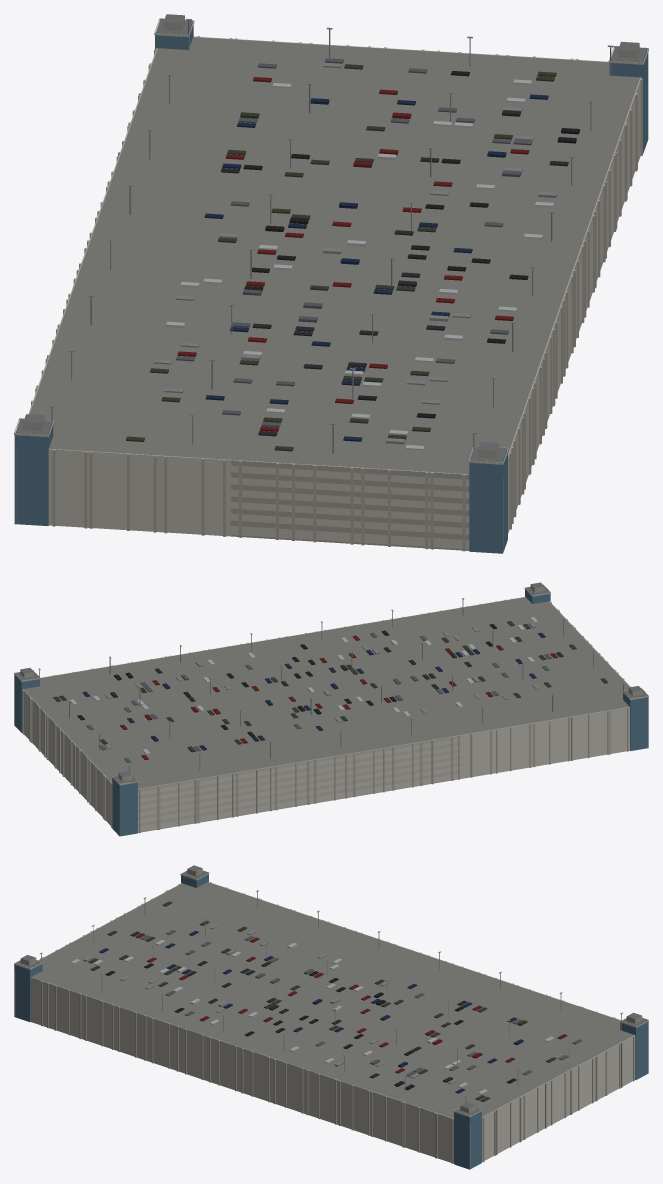
Rendered from atl-west-parking-deck.glb.
3 renders of one model, top to bottom at view 1: azimuth 30°, elevation 25°; view 2: azimuth 150°, elevation 25°; view 3: azimuth 270°, elevation 25°, orthographic. The views are drawn at different scales.
Visible parts, largest first — view 1: lod2_lm_stone, lod2_bld_wall, lod0_lm_stone, lod0_lm_metal, lod1_lm_stone, lod0_bld_glass, lod0_bld_roof; view 2: lod2_lm_stone, lod2_bld_wall, lod0_lm_stone, lod0_lm_metal, lod1_lm_stone, lod0_bld_glass, lod0_bld_roof; view 3: lod2_lm_stone, lod2_bld_wall, lod0_lm_metal, lod0_lm_stone, lod0_bld_glass, lod1_lm_stone, lod0_bld_roof.
Boxes of the visible parts, bbox=[...] form: lod2_lm_stone: bbox=[29, 37, 640, 474]; lod2_bld_wall: bbox=[48, 78, 641, 549]; lod0_lm_stone: bbox=[14, 16, 648, 552]; lod0_lm_metal: bbox=[49, 18, 613, 460]; lod1_lm_stone: bbox=[14, 18, 648, 550]; lod0_bld_glass: bbox=[14, 22, 648, 553]; lod0_bld_roof: bbox=[15, 14, 647, 461]; lod2_lm_stone: bbox=[23, 597, 639, 788]; lod2_bld_wall: bbox=[22, 689, 629, 831]; lod0_lm_stone: bbox=[14, 584, 648, 833]; lod0_lm_metal: bbox=[38, 586, 624, 772]; lod1_lm_stone: bbox=[14, 584, 648, 830]; lod0_bld_glass: bbox=[14, 589, 648, 836]; lod0_bld_roof: bbox=[15, 582, 647, 783]; lod2_lm_stone: bbox=[27, 878, 636, 1118]; lod2_bld_wall: bbox=[30, 977, 635, 1163]; lod0_lm_metal: bbox=[40, 870, 622, 1102]; lod0_lm_stone: bbox=[14, 868, 648, 1167]; lod0_bld_glass: bbox=[14, 873, 648, 1169]; lod1_lm_stone: bbox=[14, 870, 648, 1168]; lod0_bld_roof: bbox=[15, 865, 647, 1115].
Size of the model in its own units: 249 by 28.94 by 268.
